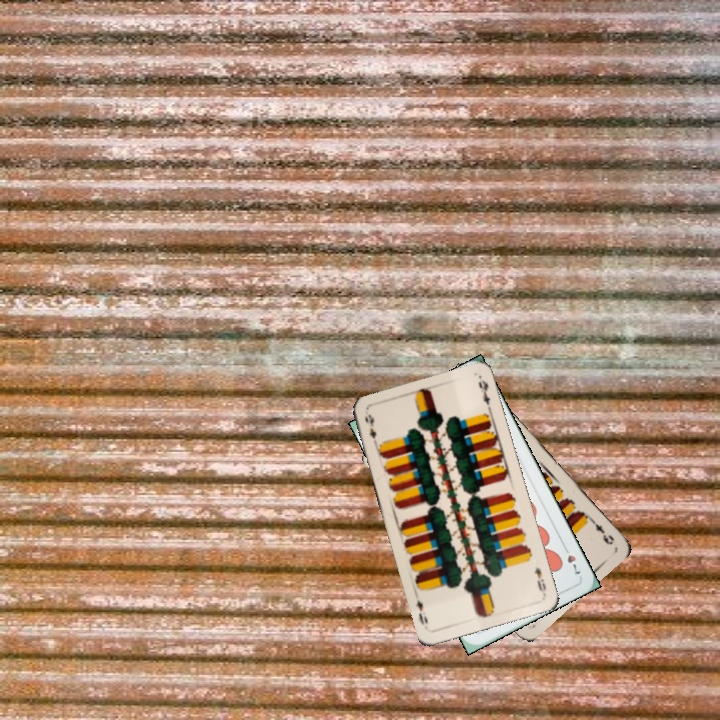E9: (586, 515, 617, 547), (361, 410, 384, 449), (530, 563, 549, 596)
H7: (559, 541, 584, 577)
